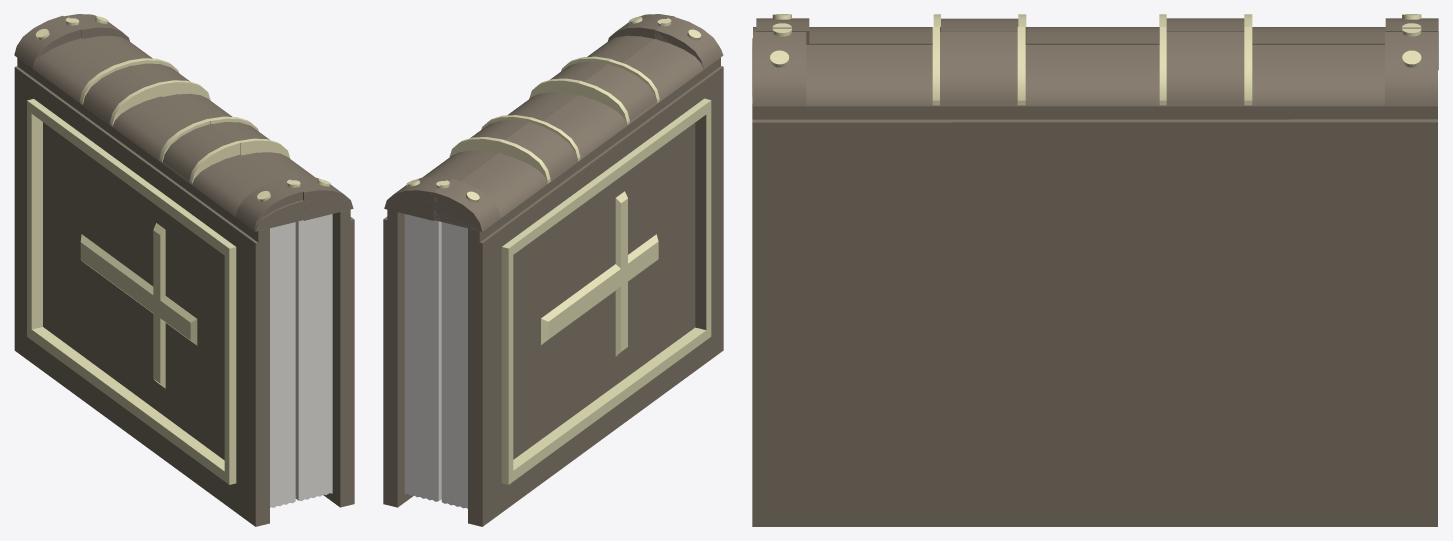
File: actress_weapon.fbx
The picture shows the model from 3 angles, left to right: view 1: azimuth 30°, elevation 25°; view 2: azimuth 150°, elevation 25°; view 3: azimuth 270°, elevation 25°; orthographic projection. The views are drawn at different scales.
Parts seen in each view (by area): view 1: pasted__polySurface43; view 2: pasted__polySurface43; view 3: pasted__polySurface43.
Part boxes in pixels (x1=…): pasted__polySurface43: x1=14, y1=14, x2=354, y2=526; pasted__polySurface43: x1=383, y1=14, x2=723, y2=526; pasted__polySurface43: x1=752, y1=14, x2=1438, y2=526.
Bounding box in the file's own units: 0.0889 × 0.2623 × 0.3508.
